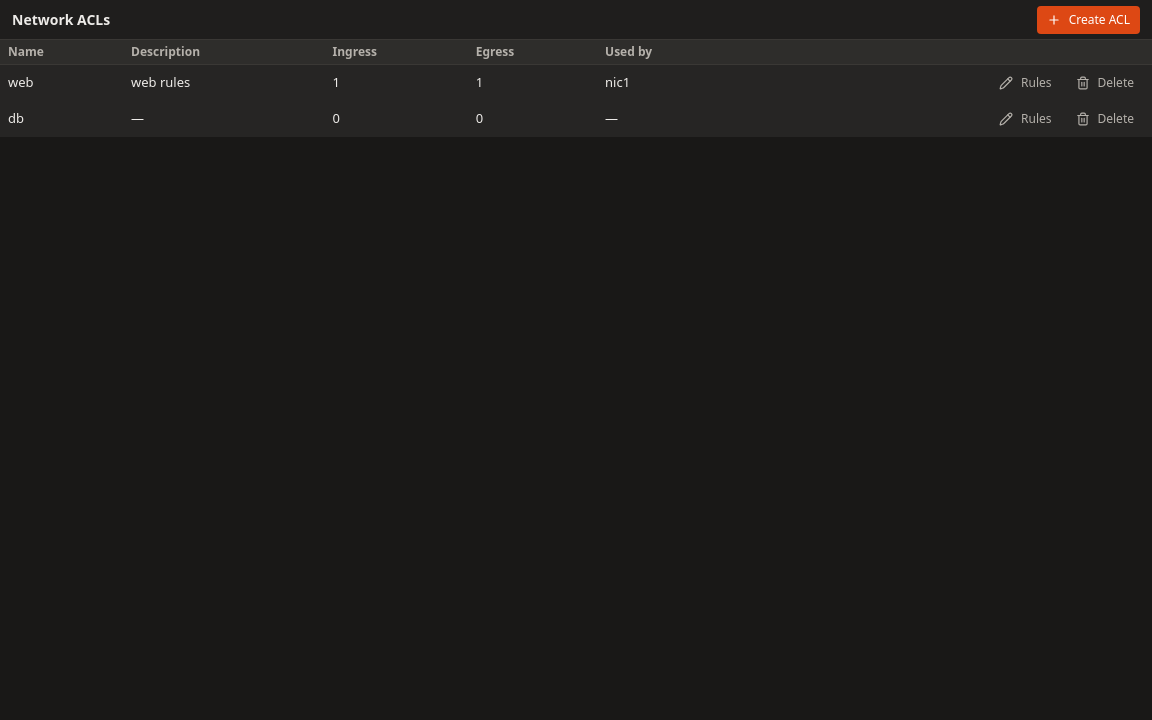
Test case: AclsPage › removes a rule after confirmation
Expected: the text "web" is shown, [8,73,34,91]
Click the button with test id "acl-rules-web" at (1025, 83), box [989,69,1062,97]
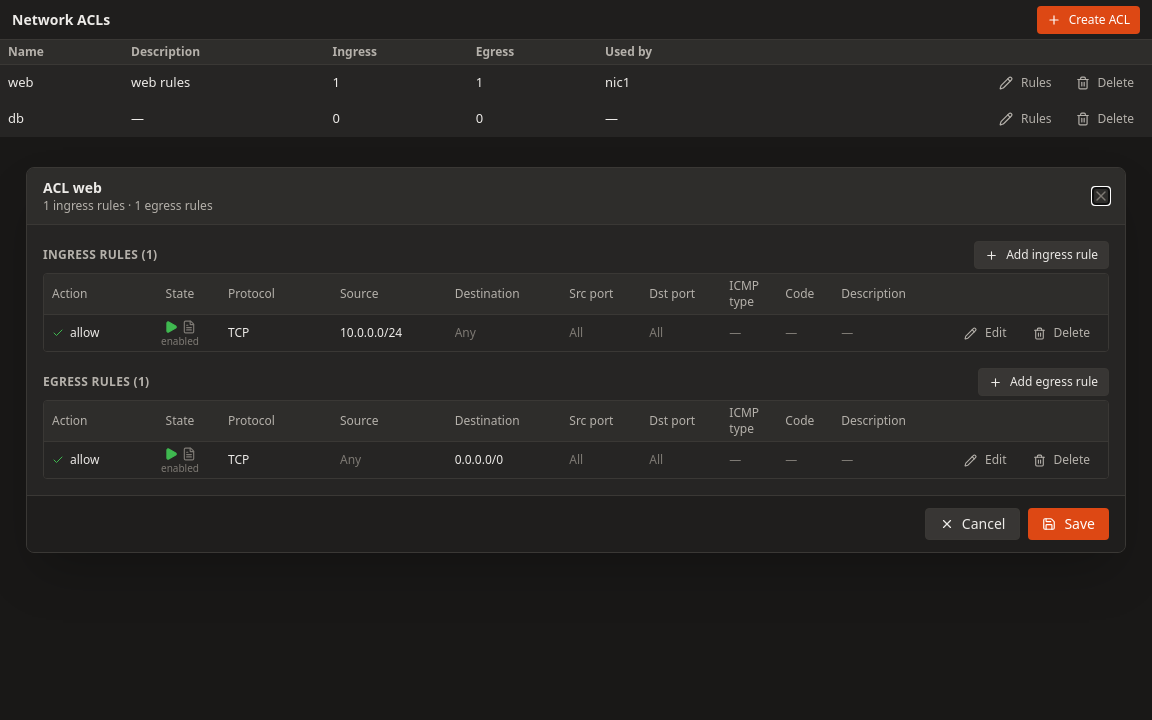
Expected: the row with test id "acl-ingress-rule-0" is shown, [44,315,1108,351]
Click the button with test id "acl-ingress-remove-0" at (1061, 333), box [1022,319,1100,347]
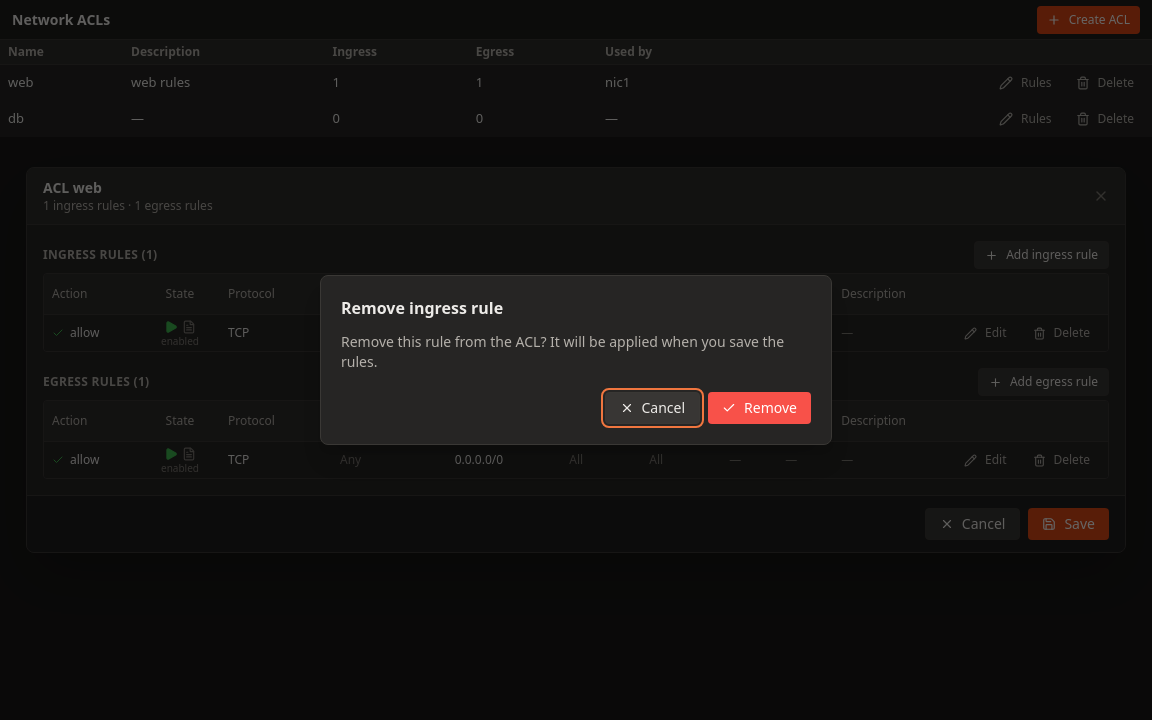
Expected: the row with test id "acl-ingress-rule-0" is shown, [44,315,1108,351]
Expected: the button with test id "confirm-confirm" is shown
Click the button with test id "confirm-confirm" at (760, 408), box [708,392,811,424]
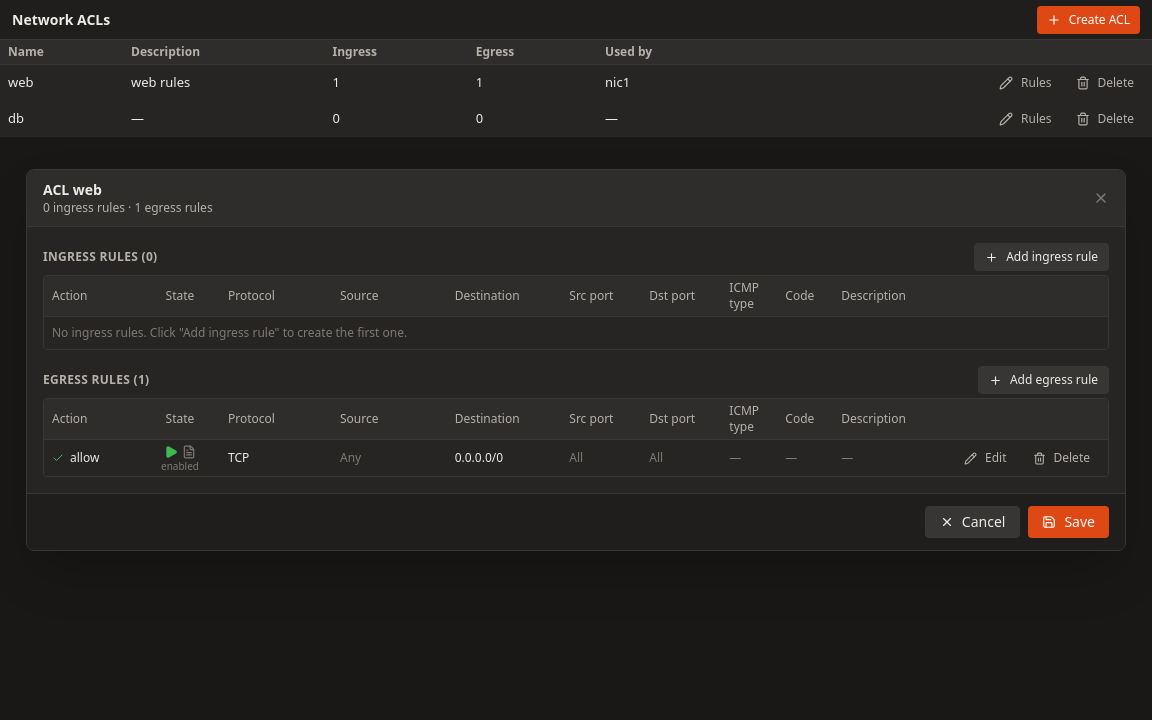
Expected: the row with test id "acl-ingress-rule-0" is gone
